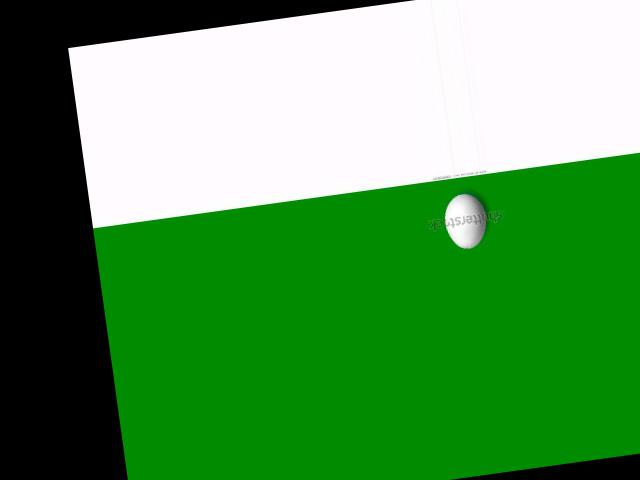egg: (441, 191, 489, 250)
